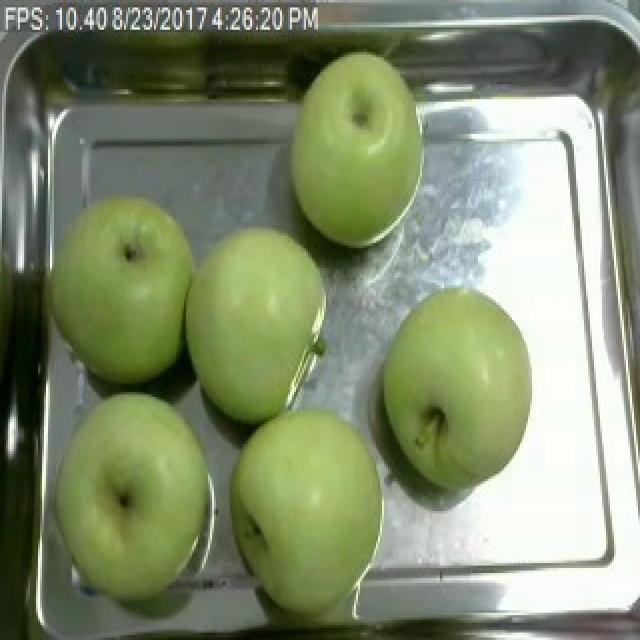50-_ripeness: (291, 42, 444, 271), (227, 408, 392, 602), (389, 278, 536, 492), (56, 391, 202, 599), (191, 222, 330, 412), (59, 190, 188, 384)
